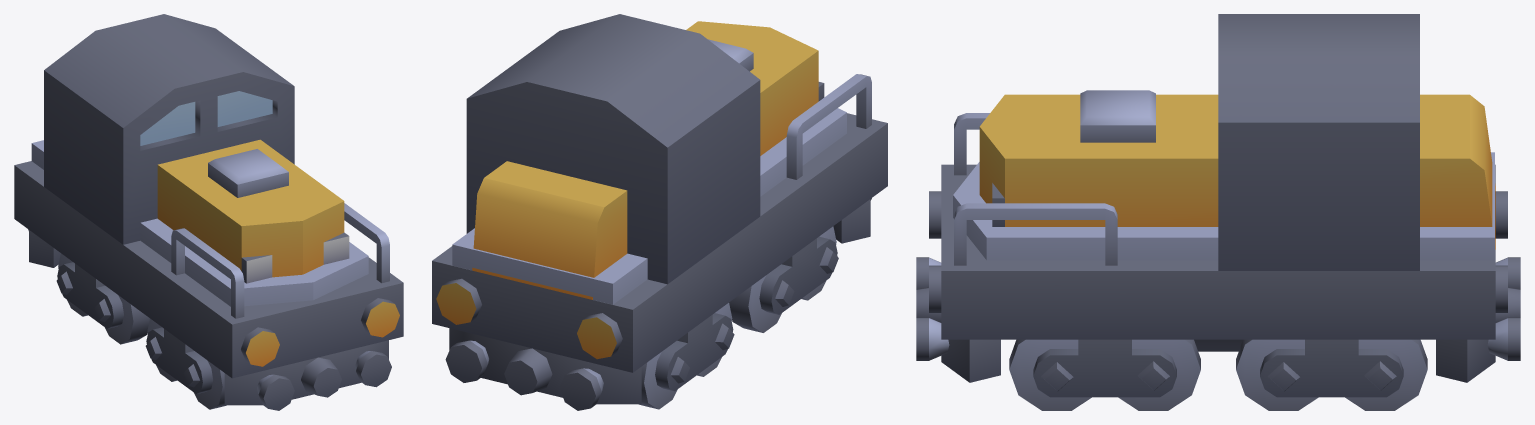
The model's file is train-diesel-c.glb.
The picture shows the model from 3 angles, left to right: view 1: azimuth 30°, elevation 25°; view 2: azimuth 150°, elevation 25°; view 3: azimuth 270°, elevation 25°; orthographic projection. The views are drawn at different scales.
Parts seen in each view (by area): view 1: train-diesel-c, wheels-back, wheels-front; view 2: train-diesel-c, wheels-front, wheels-back; view 3: train-diesel-c, wheels-front, wheels-back.
Part boxes in pixels (left/top/right/bottom): train-diesel-c: left=14, top=14, right=403, bottom=410; wheels-back: left=56, top=253, right=149, bottom=344; wheels-front: left=145, top=318, right=226, bottom=409; train-diesel-c: left=432, top=14, right=887, bottom=410; wheels-front: left=729, top=226, right=838, bottom=332; wheels-back: left=639, top=303, right=734, bottom=409; train-diesel-c: left=916, top=14, right=1520, bottom=382; wheels-front: left=1009, top=339, right=1200, bottom=410; wheels-back: left=1236, top=339, right=1427, bottom=410.
Size of the model in its own units: 1 by 1.46 by 2.4.
